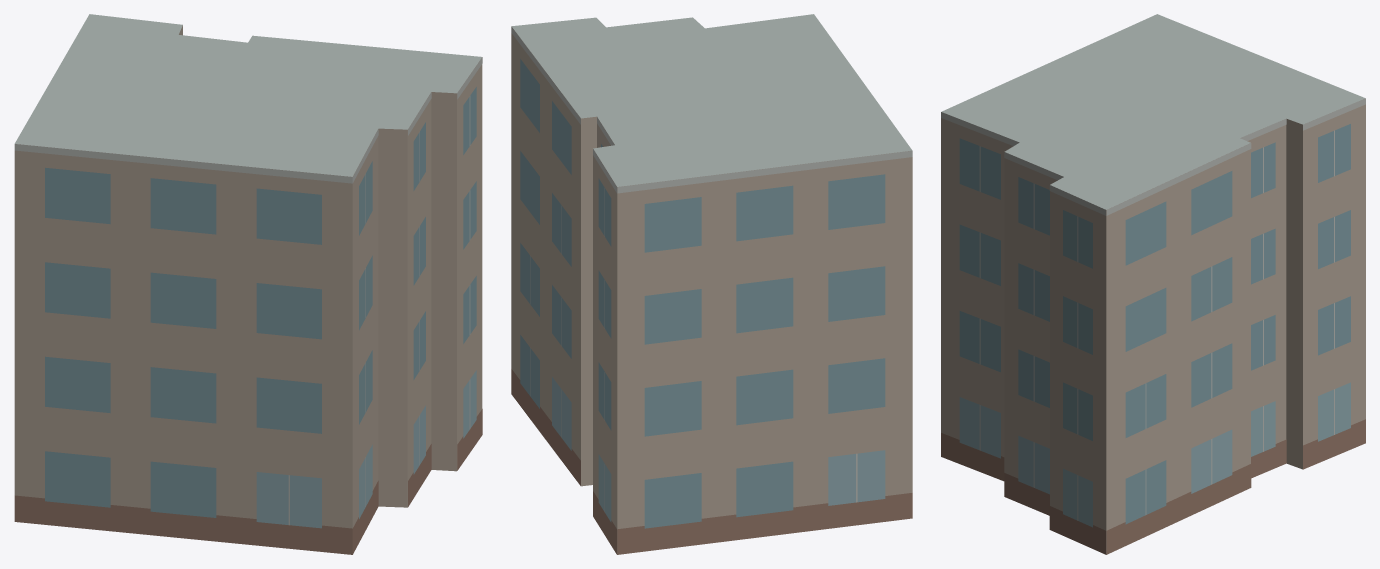
File: survey-upis-32749082.glb
The picture shows the model from 3 angles, left to right: view 1: azimuth 30°, elevation 25°; view 2: azimuth 150°, elevation 25°; view 3: azimuth 270°, elevation 25°; orthographic projection. The views are drawn at different scales.
Visible parts, largest first — view 1: survey-upis-32749082.tmp; view 2: survey-upis-32749082.tmp; view 3: survey-upis-32749082.tmp.
Boxes of the visible parts, x1=… form: survey-upis-32749082.tmp: x1=14, y1=14, x2=482, y2=554; survey-upis-32749082.tmp: x1=511, y1=14, x2=912, y2=554; survey-upis-32749082.tmp: x1=941, y1=14, x2=1365, y2=554.
Size of the model in its own units: 16.82 by 13.8 by 15.41.
